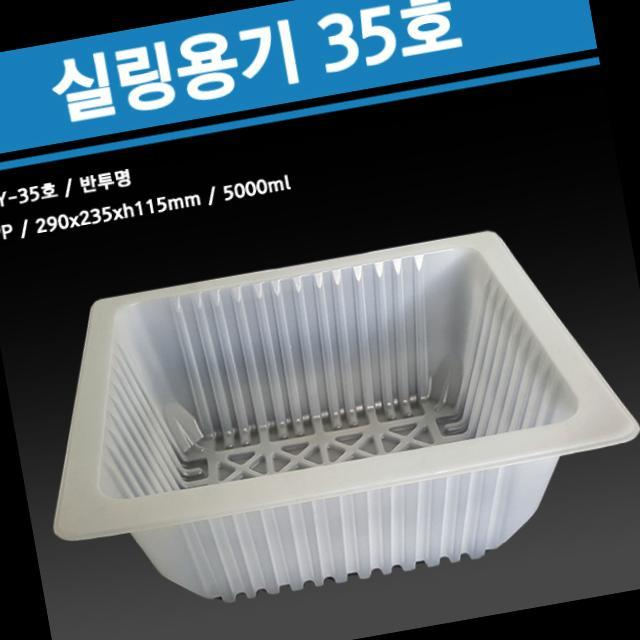bottle: (16, 221, 640, 611)
